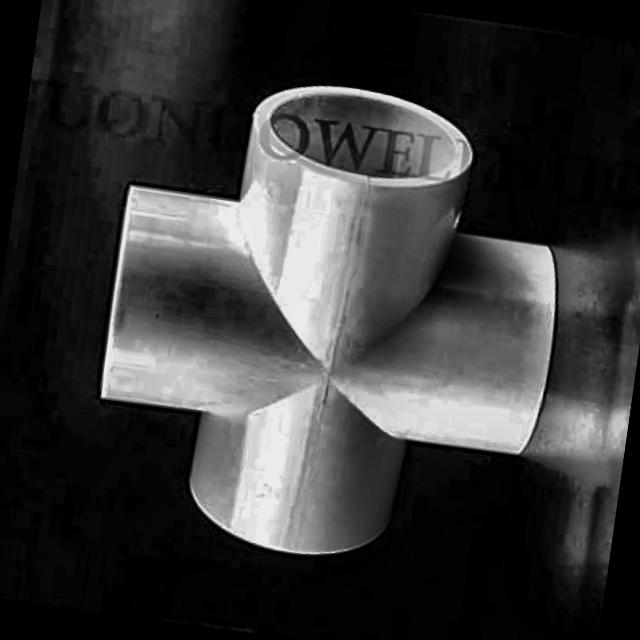EQUALCROSS: (95, 85, 555, 555)
